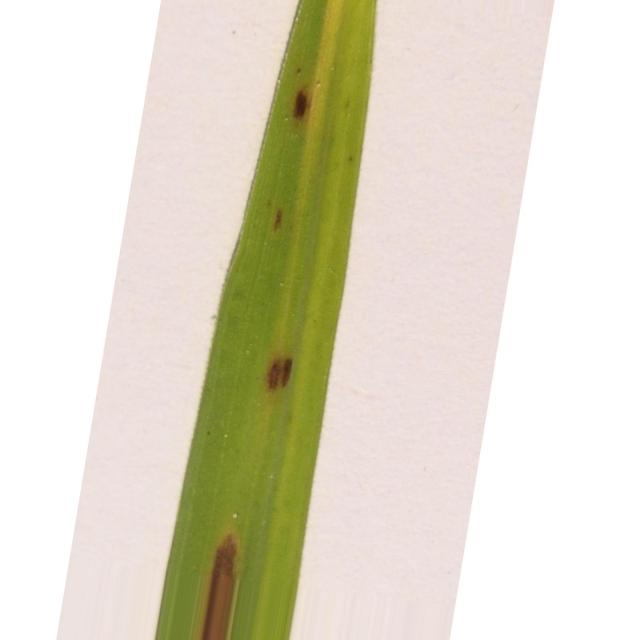Brown_Spot: (202, 535, 236, 640), (268, 359, 292, 389), (294, 90, 308, 118), (274, 209, 282, 229)
